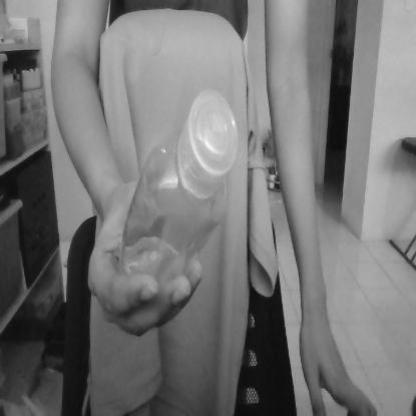Plastic Bottle: (119, 86, 243, 300)
